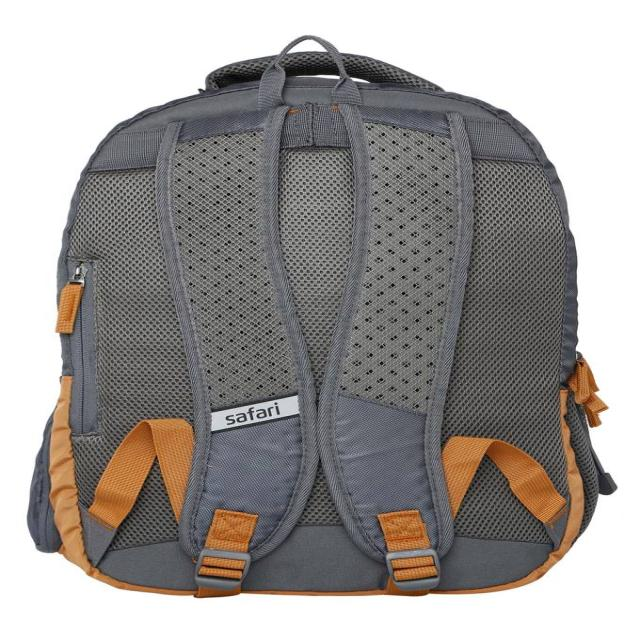backpack: (28, 35, 619, 599)
